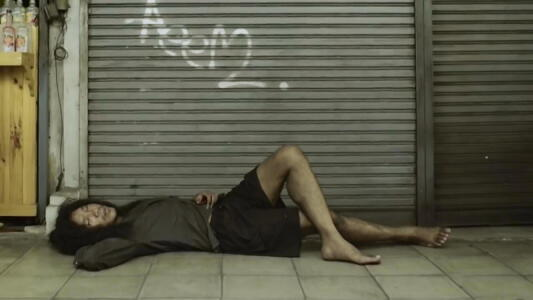gelandangan: (31, 141, 458, 278)
